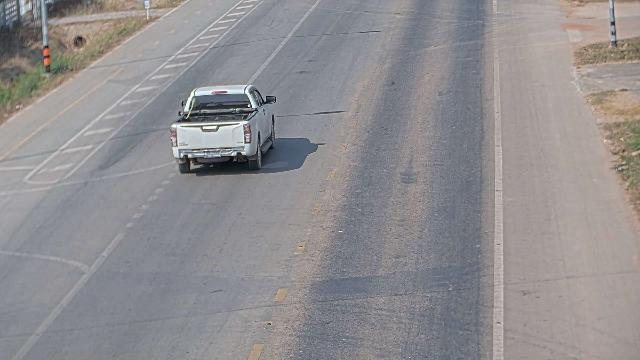pickup-truck: (169, 83, 277, 174)
